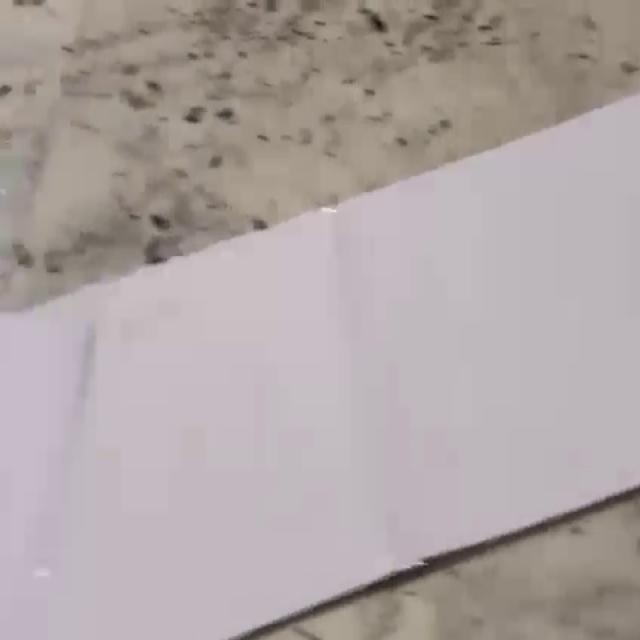road: (0, 95, 640, 637)
